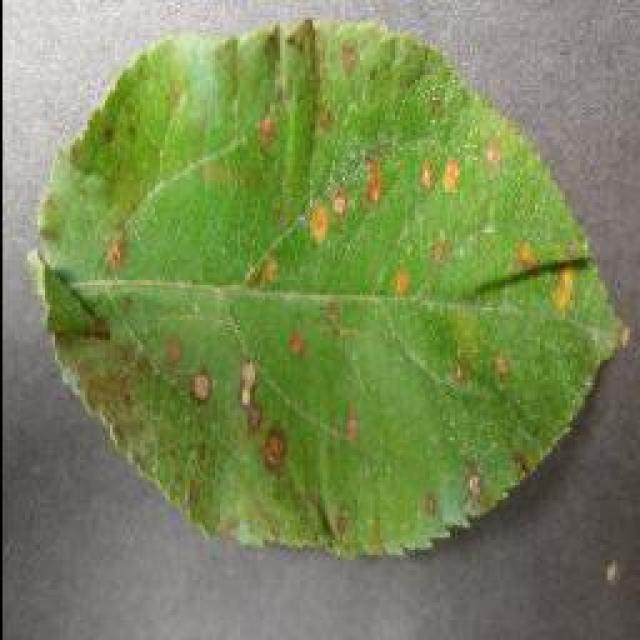Apple___Cedar_apple_rust: (22, 16, 630, 564)
